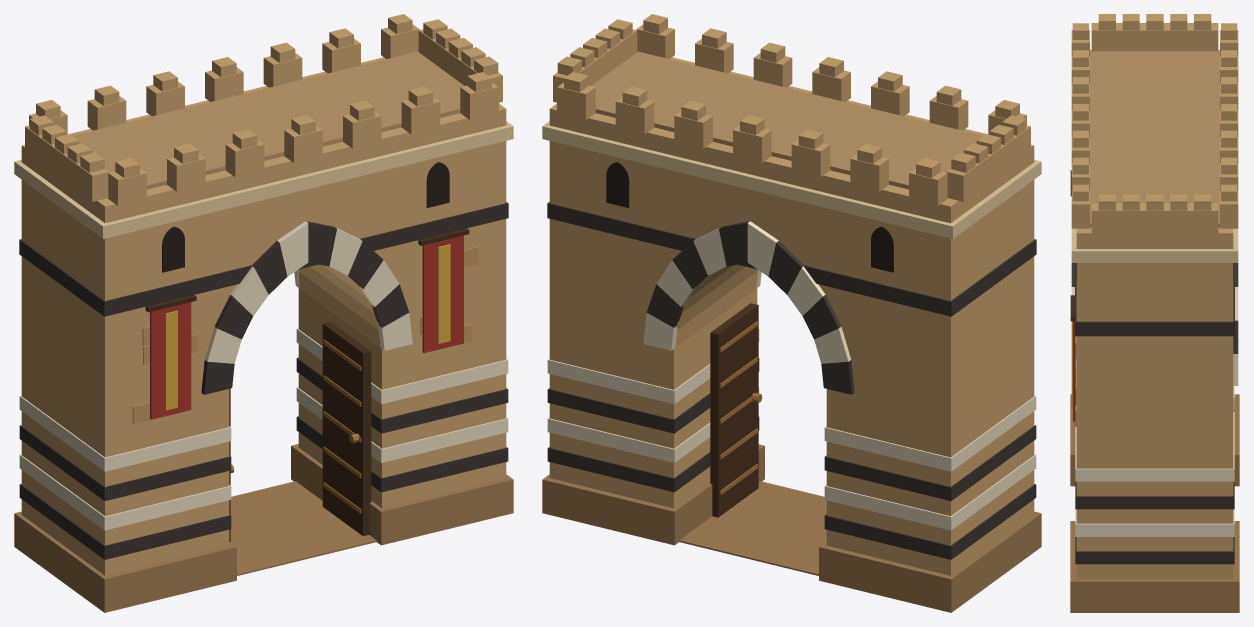
Rendered from desert_gate.glb.
The picture shows the model from 3 angles, left to right: view 1: azimuth 30°, elevation 25°; view 2: azimuth 150°, elevation 25°; view 3: azimuth 270°, elevation 25°; orthographic projection. The views are drawn at different scales.
Visible parts, largest first — view 1: desert_gate; view 2: desert_gate; view 3: desert_gate.
Part boxes in pixels (box(x1,y1,x2,y2)): desert_gate: box(14, 14, 513, 612); desert_gate: box(542, 14, 1041, 612); desert_gate: box(1070, 14, 1239, 612).
Bounding box in the file's own units: 10.24 × 10.46 × 3.9.
